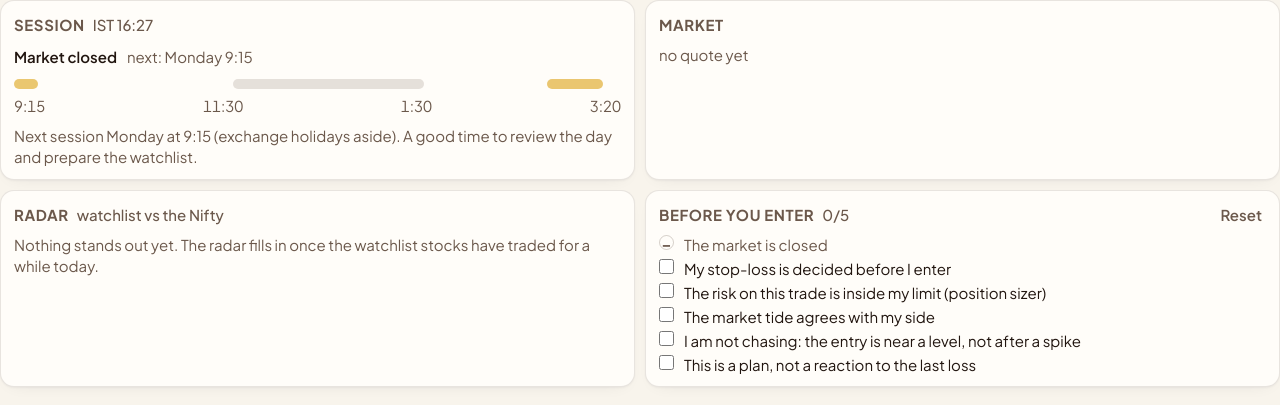
the checklist is kept for the day and can be reset
Click the checkbox labelled "My stop-loss is decided before I enter": (666, 266) [659,258,674,274]
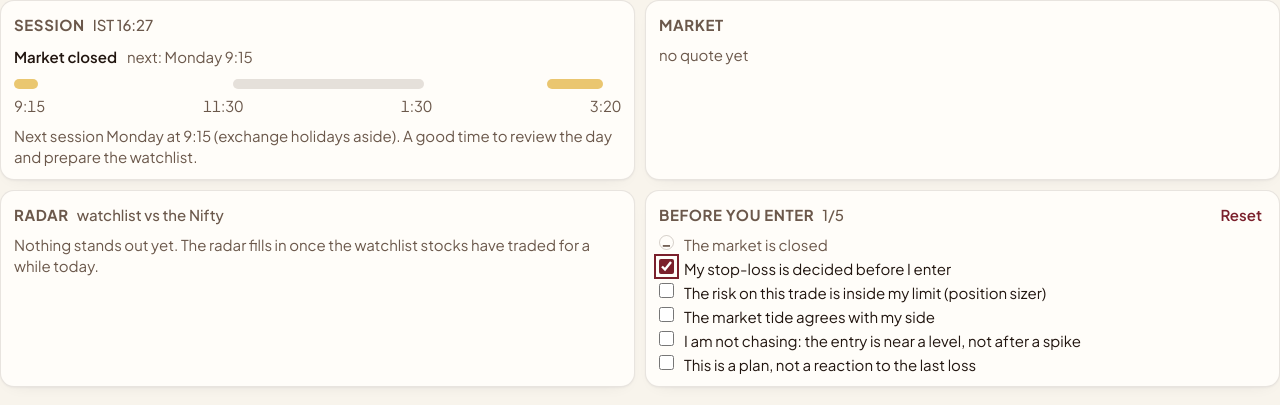
Click the checkbox labelled "The risk on this trade is inside my limit (position sizer)": (666, 290) [659,282,674,298]
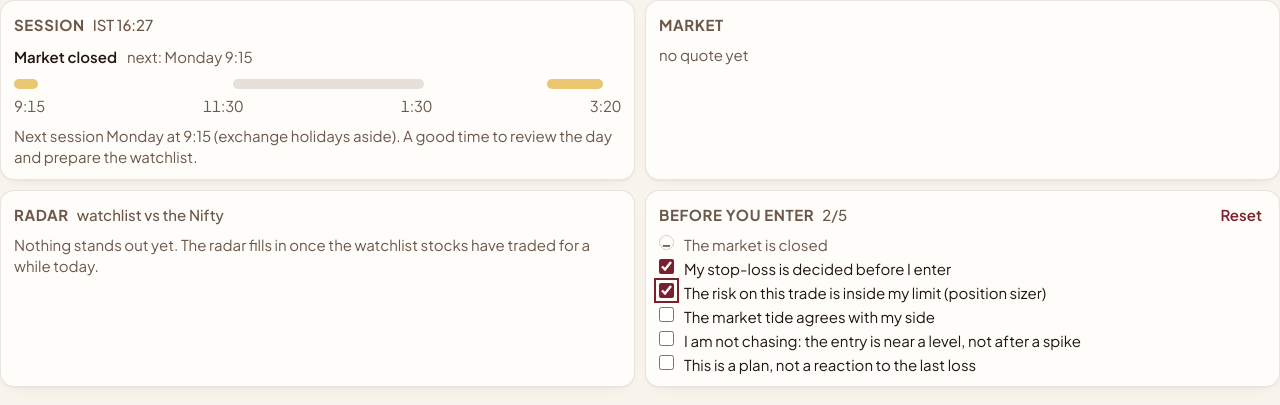
Expected: the element named "Pre-trade checklist" shows "2/5", [645,190,1279,386]
Click the button "Reset": (1241, 215) [1216,202,1266,228]
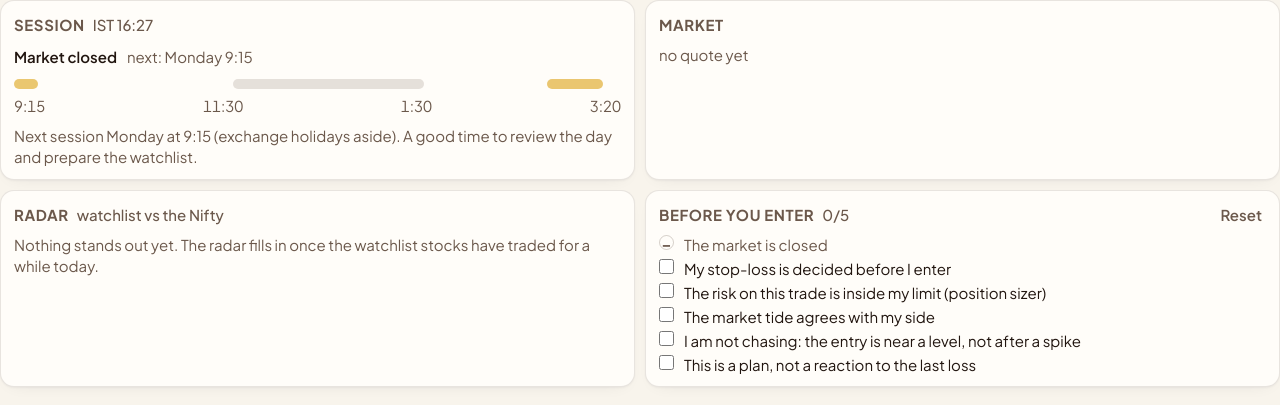
Expected: the element named "Pre-trade checklist" shows "0/5", [645,190,1279,386]
